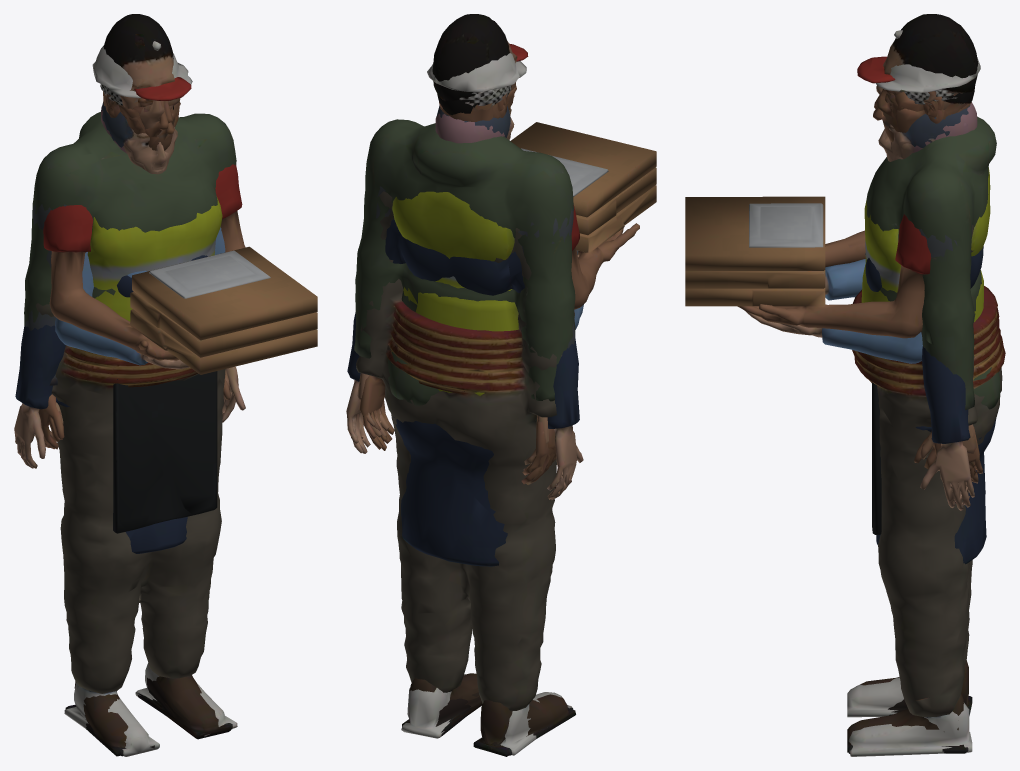
Rendered from people.glb.
3 renders of one model, left to right at view 1: azimuth 30°, elevation 25°; view 2: azimuth 150°, elevation 25°; view 3: azimuth 270°, elevation 25°, orthographic. The views are drawn at different scales.
Parts seen in each view (by area): view 1: kurdish_man_body, pizza_carrier_body, young_man_body, staff_body, worker_body, woman_coat_body; view 2: kurdish_man_body, young_man_body, woman_coat_body, worker_body, pizza_carrier_body, staff_body; view 3: kurdish_man_body, young_man_body, pizza_carrier_body, staff_body, woman_coat_body, worker_body.
Part boxes in pixels (x1,y1,x2,y2): kurdish_man_body: (35,84,230,738); pizza_carrier_body: (43,77,317,756); young_man_body: (24,14,237,756); staff_body: (55,102,270,533); worker_body: (25,41,236,756); woman_coat_body: (14,106,245,716); kurdish_man_body: (356,85,574,749); young_man_body: (354,14,575,755); woman_coat_body: (346,113,583,736); worker_body: (371,16,575,756); pizza_carrier_body: (404,43,656,755); staff_body: (436,105,608,329); kurdish_man_body: (852,89,1005,716); young_man_body: (847,14,1000,756); pizza_carrier_body: (685,56,975,753); staff_body: (745,105,970,534); woman_coat_body: (865,102,996,715); worker_body: (847,30,990,753).
Bounding box in the file's own units: 0.6053 × 1.82 × 0.7384.
Materials: 6 (6 with a texture image).
